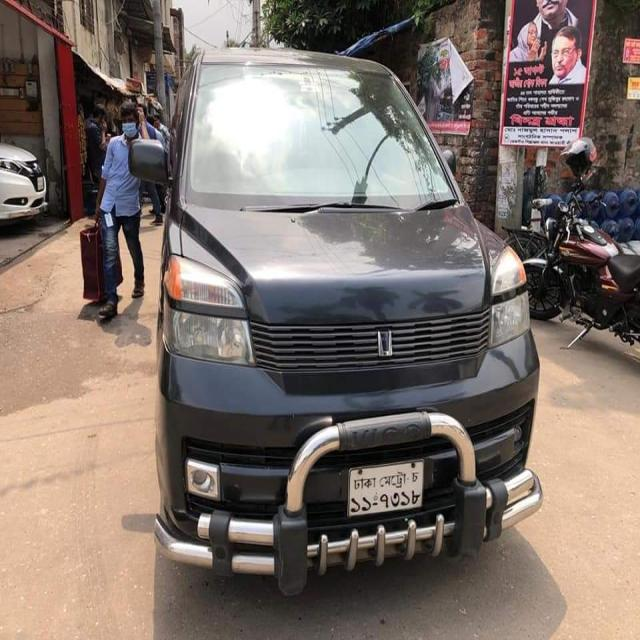black: (151, 45, 514, 564)
